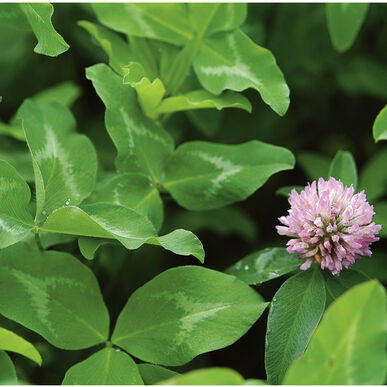clover: (1, 246, 270, 387)
clover blossom purple: (274, 174, 384, 277)
